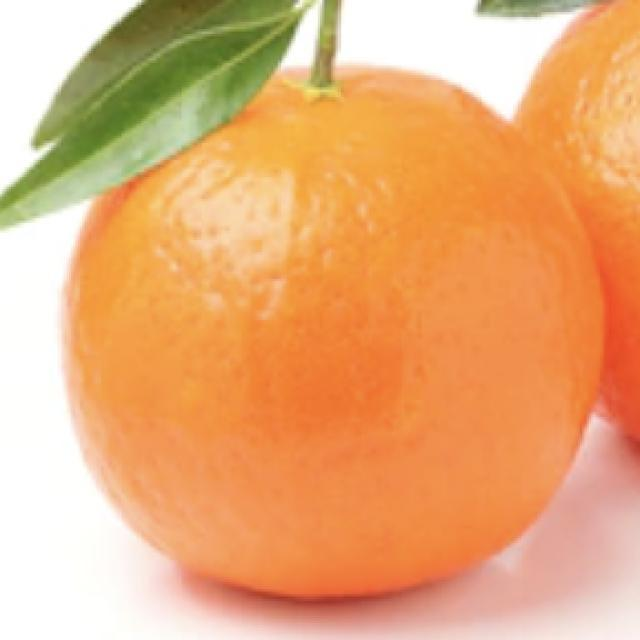Orange: (60, 61, 606, 601), (513, 0, 639, 453)
